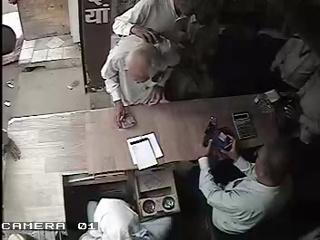Normal: (197, 103, 295, 239), (104, 1, 192, 124)
